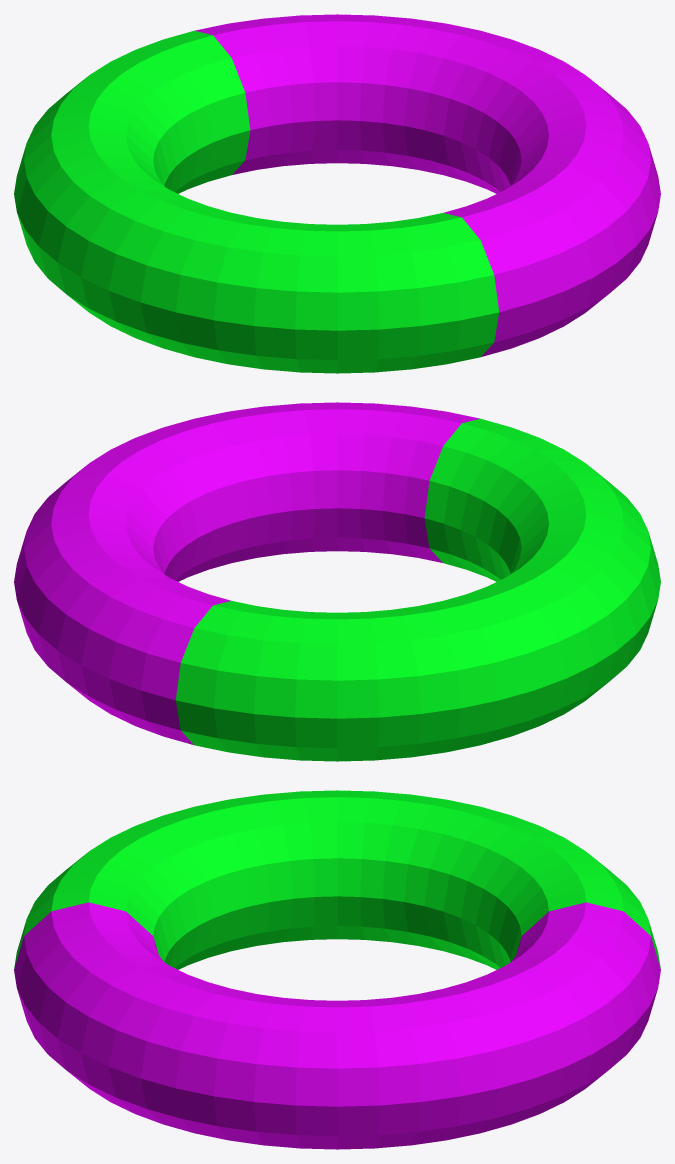
3 renders of one model, top to bottom at view 1: azimuth 30°, elevation 25°; view 2: azimuth 150°, elevation 25°; view 3: azimuth 270°, elevation 25°, orthographic.
Visible parts, largest first — view 1: Torus; view 2: Torus; view 3: Torus.
Part boxes in pixels (x1,y1,x2,y2): Torus: [14, 14, 660, 373]; Torus: [14, 402, 660, 761]; Torus: [14, 790, 660, 1149].
Size of the model in its own units: 2.6 by 0.6 by 2.6.
